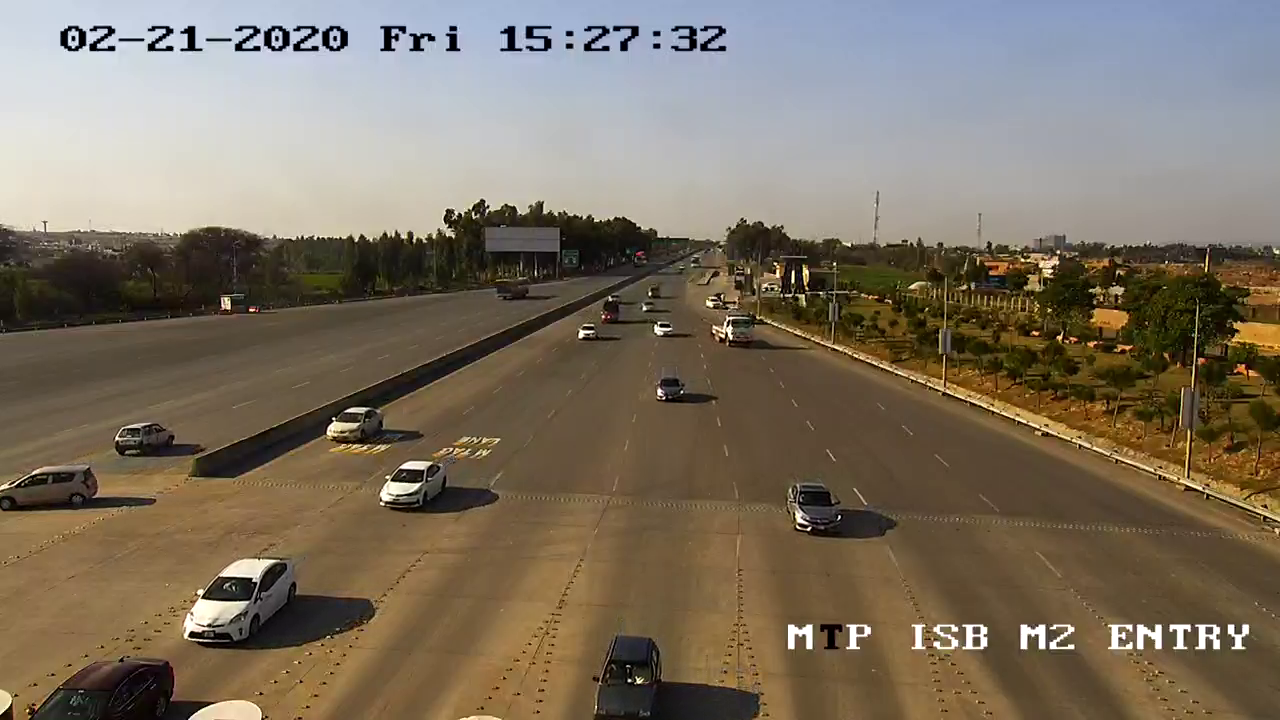f1: (171, 541, 302, 652), (366, 452, 457, 521), (774, 472, 854, 543)
